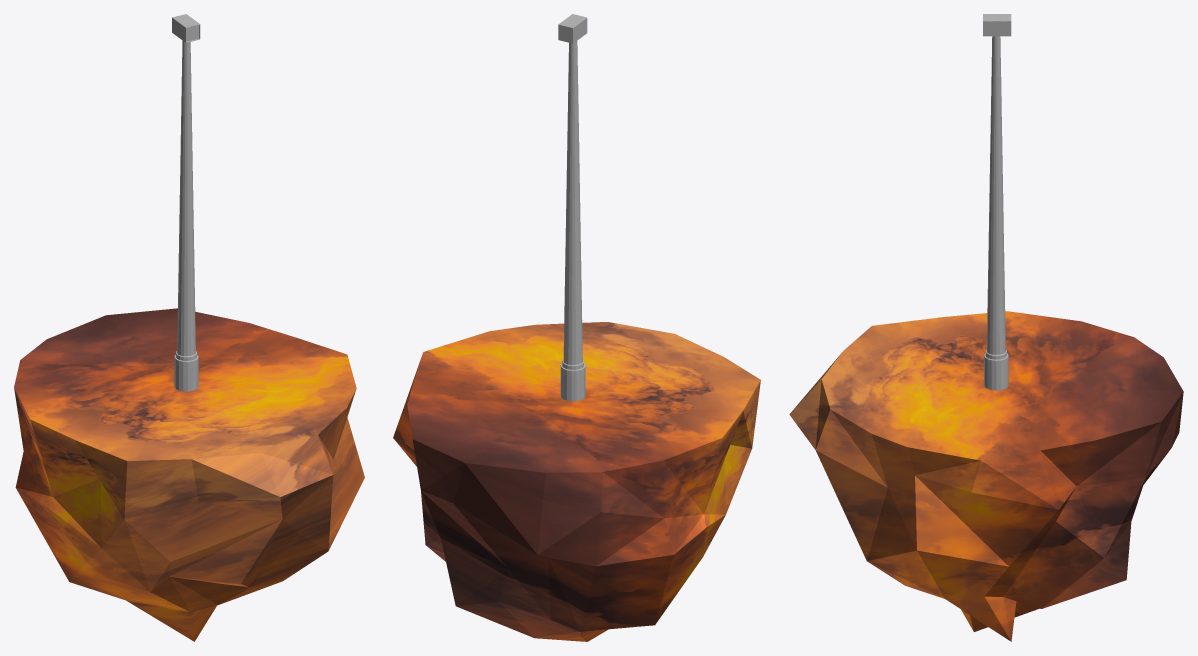
The model's file is eol1.glb.
3 views of the same model, side by side, from view 1: azimuth 30°, elevation 25°; view 2: azimuth 150°, elevation 25°; view 3: azimuth 270°, elevation 25° (orthographic). The views are drawn at different scales.
Size of the model in its own units: 0.2475 by 0.4752 by 0.2756.
2 materials, 1 textured.
